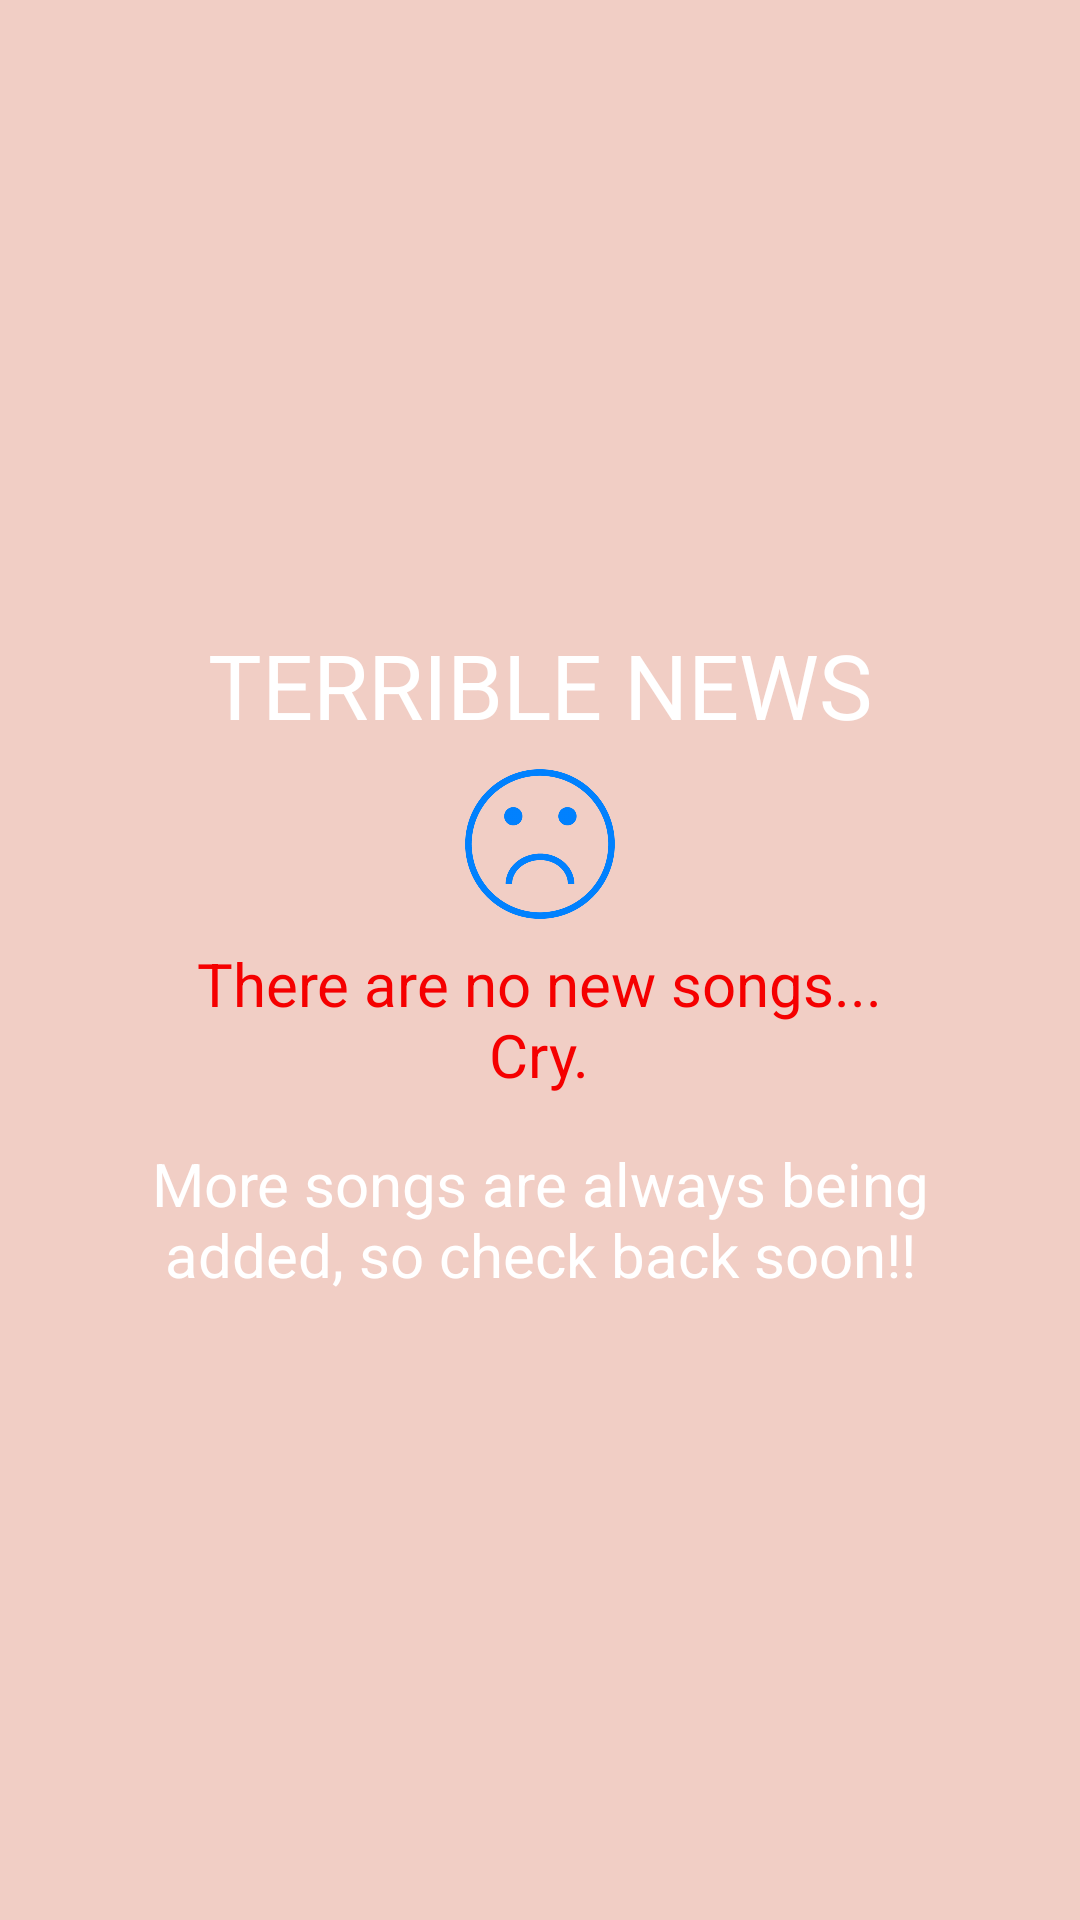

Screen size 1080*1920. Icon name, then its center in pixels as [x,y]:
sad: [540,844]
